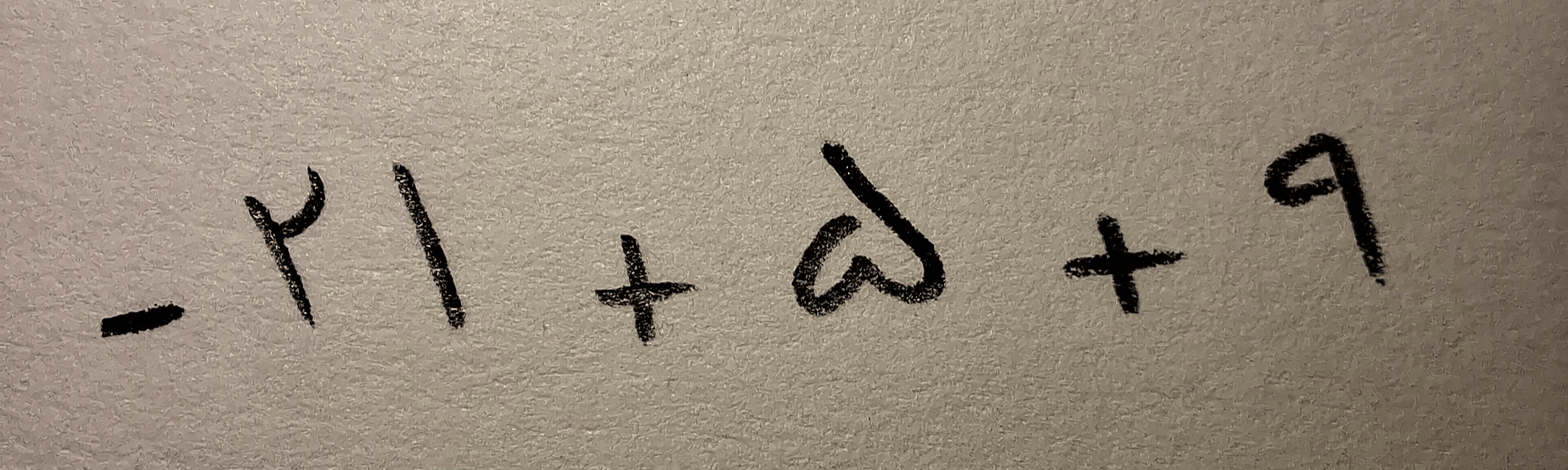character: (794, 144, 948, 318), (1266, 133, 1389, 287), (245, 165, 327, 328), (388, 159, 465, 326), (1066, 215, 1184, 314), (597, 232, 696, 340), (101, 300, 184, 339)
